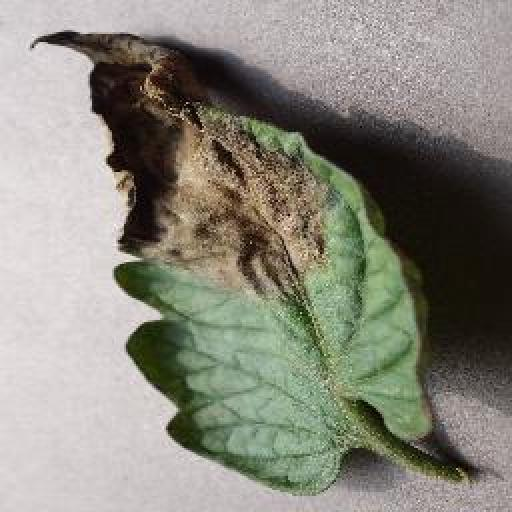disease_tomato: (32, 25, 439, 495)
